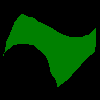mutande: (2, 14, 96, 87)
